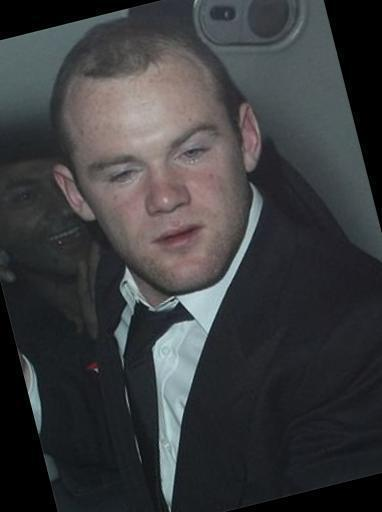Drunk: (73, 81, 243, 280)
